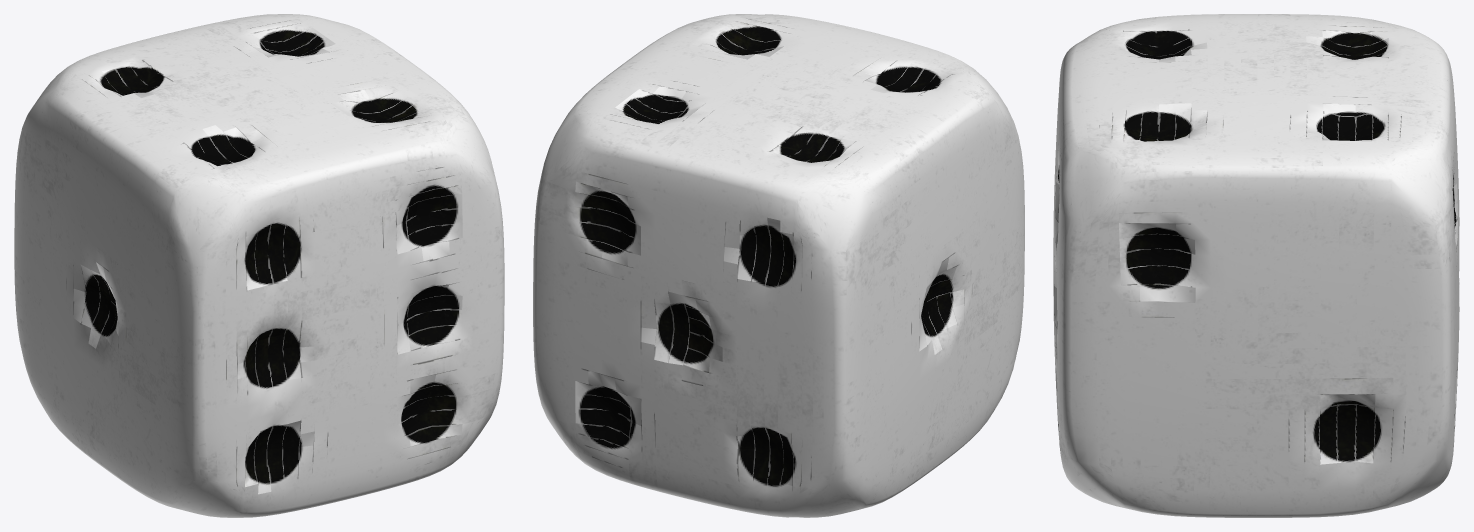
The model's file is dice.glb.
The picture shows the model from 3 angles, left to right: view 1: azimuth 30°, elevation 25°; view 2: azimuth 150°, elevation 25°; view 3: azimuth 270°, elevation 25°; orthographic projection. The views are drawn at different scales.
Parts seen in each view (by area): view 1: g (×2); view 2: g (×2); view 3: g (×2).
Part boxes in pixels (<box>): g (×2): <box>14,14,504,517</box>; g (×2): <box>533,14,1024,517</box>; g (×2): <box>1053,14,1459,517</box>.
Size of the model in its own units: 0.1036 by 0.1067 by 0.1068.
1 material, 1 textured.
